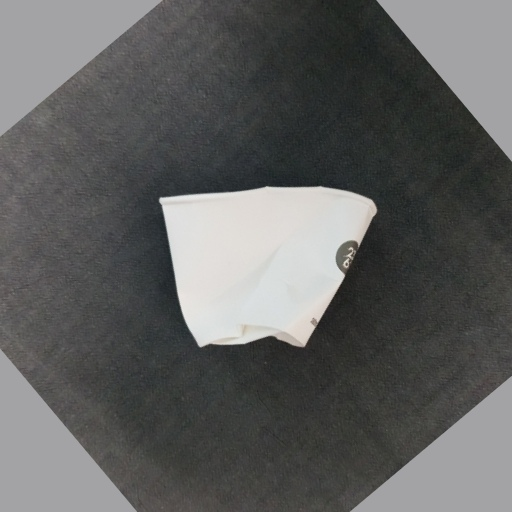Paper_1: (153, 186, 381, 355)
